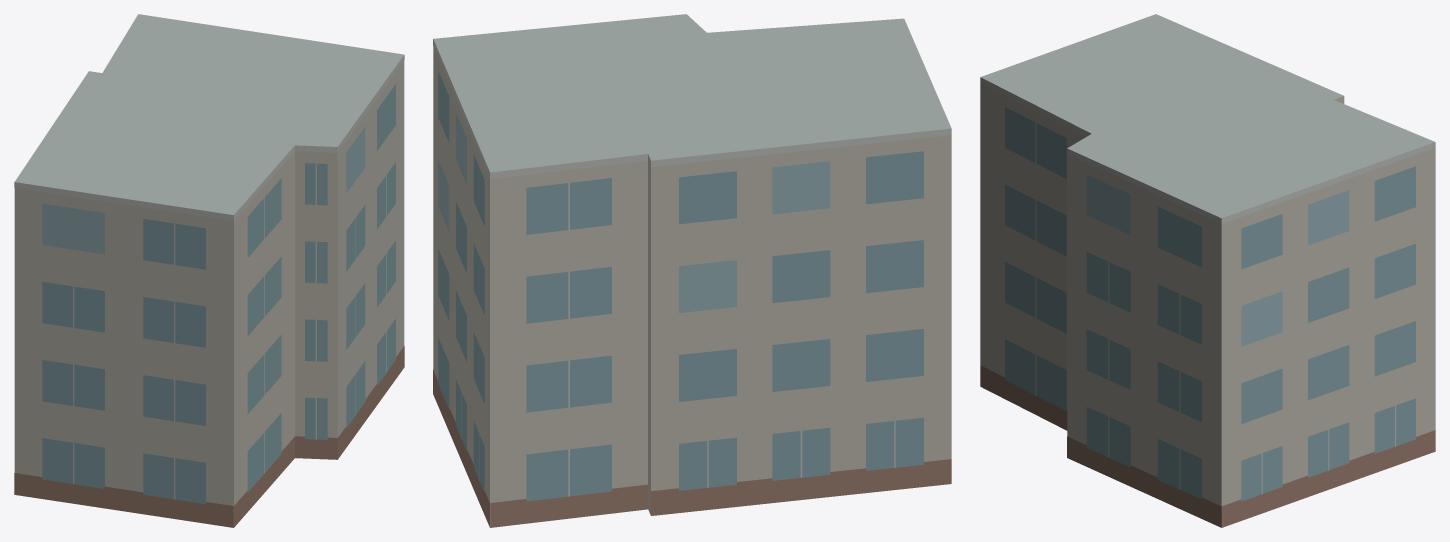
The model's file is survey-upis-32991592.glb.
The picture shows the model from 3 angles, left to right: view 1: azimuth 30°, elevation 25°; view 2: azimuth 150°, elevation 25°; view 3: azimuth 270°, elevation 25°; orthographic projection. The views are drawn at different scales.
Parts seen in each view (by area): view 1: survey-upis-32991592.tmp; view 2: survey-upis-32991592.tmp; view 3: survey-upis-32991592.tmp.
Boxes of the visible parts, <box> form: survey-upis-32991592.tmp: <box>14,14,404,527</box>; survey-upis-32991592.tmp: <box>433,14,951,527</box>; survey-upis-32991592.tmp: <box>980,14,1435,527</box>.
Bounding box in the file's own units: 18.56 × 13.1 × 17.47.
